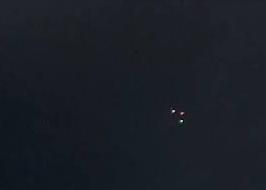Plane: (159, 101, 198, 128)
